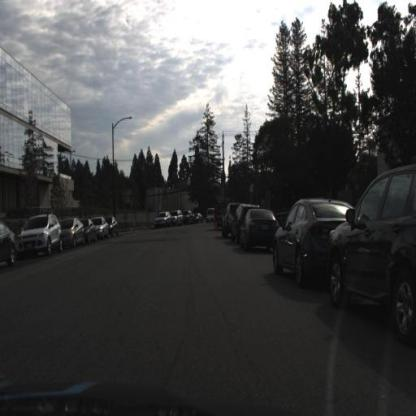car: (328, 163, 416, 345), (271, 197, 330, 289), (18, 210, 64, 259), (239, 208, 276, 251), (1, 219, 19, 271), (63, 215, 88, 251), (63, 218, 88, 249), (229, 206, 247, 244), (82, 215, 100, 249), (106, 212, 123, 241), (94, 216, 110, 245), (153, 215, 172, 231), (171, 208, 185, 229)
